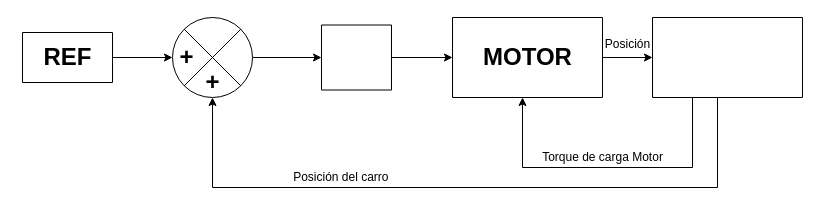
Image size: 820x213. Some labels were removed from this diagram. Here are the shapes that lost their labels. From the top down, the centre of each, then its label:
At (356,57): "PID".
At (727,57): "SISTEMA".
